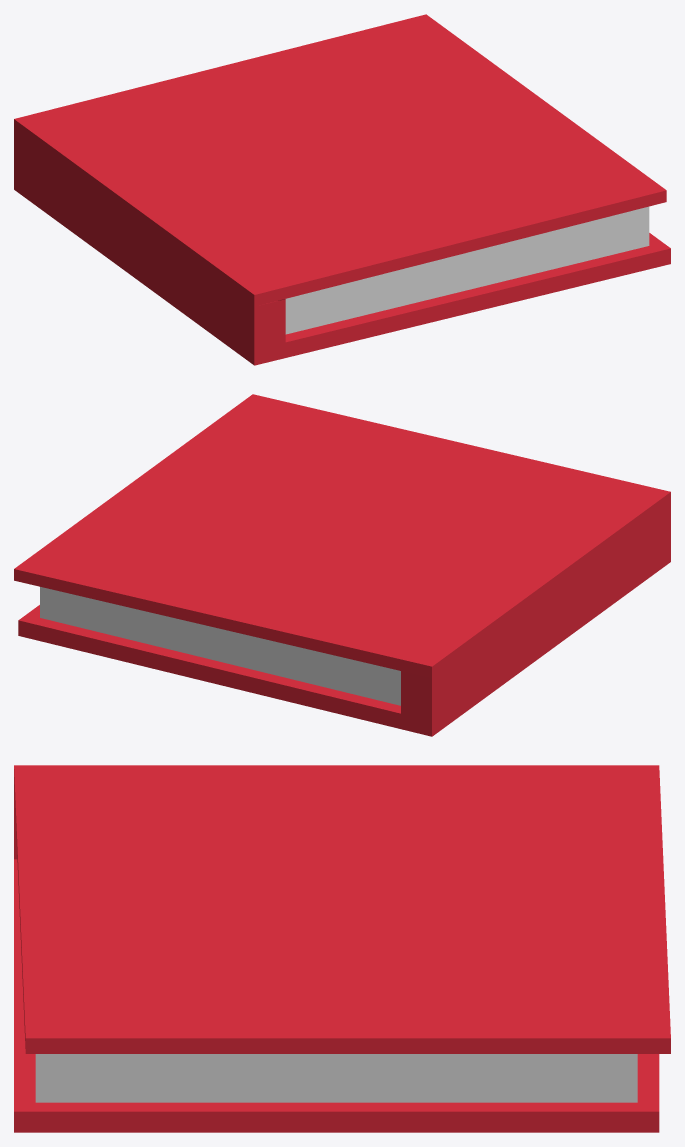
Rendered from 02_book.fbx.
3 renders of one model, top to bottom at view 1: azimuth 30°, elevation 25°; view 2: azimuth 150°, elevation 25°; view 3: azimuth 270°, elevation 25°, orthographic. The views are drawn at different scales.
Parts seen in each view (by area): view 1: Plane; view 2: Plane; view 3: Plane.
Boxes of the visible parts, x1,y1,x2,y2 form: Plane: (14,14,670,365); Plane: (14,394,670,736); Plane: (14,765,670,1132).
Bounding box in the file's own units: 200 × 32.41 × 204.
